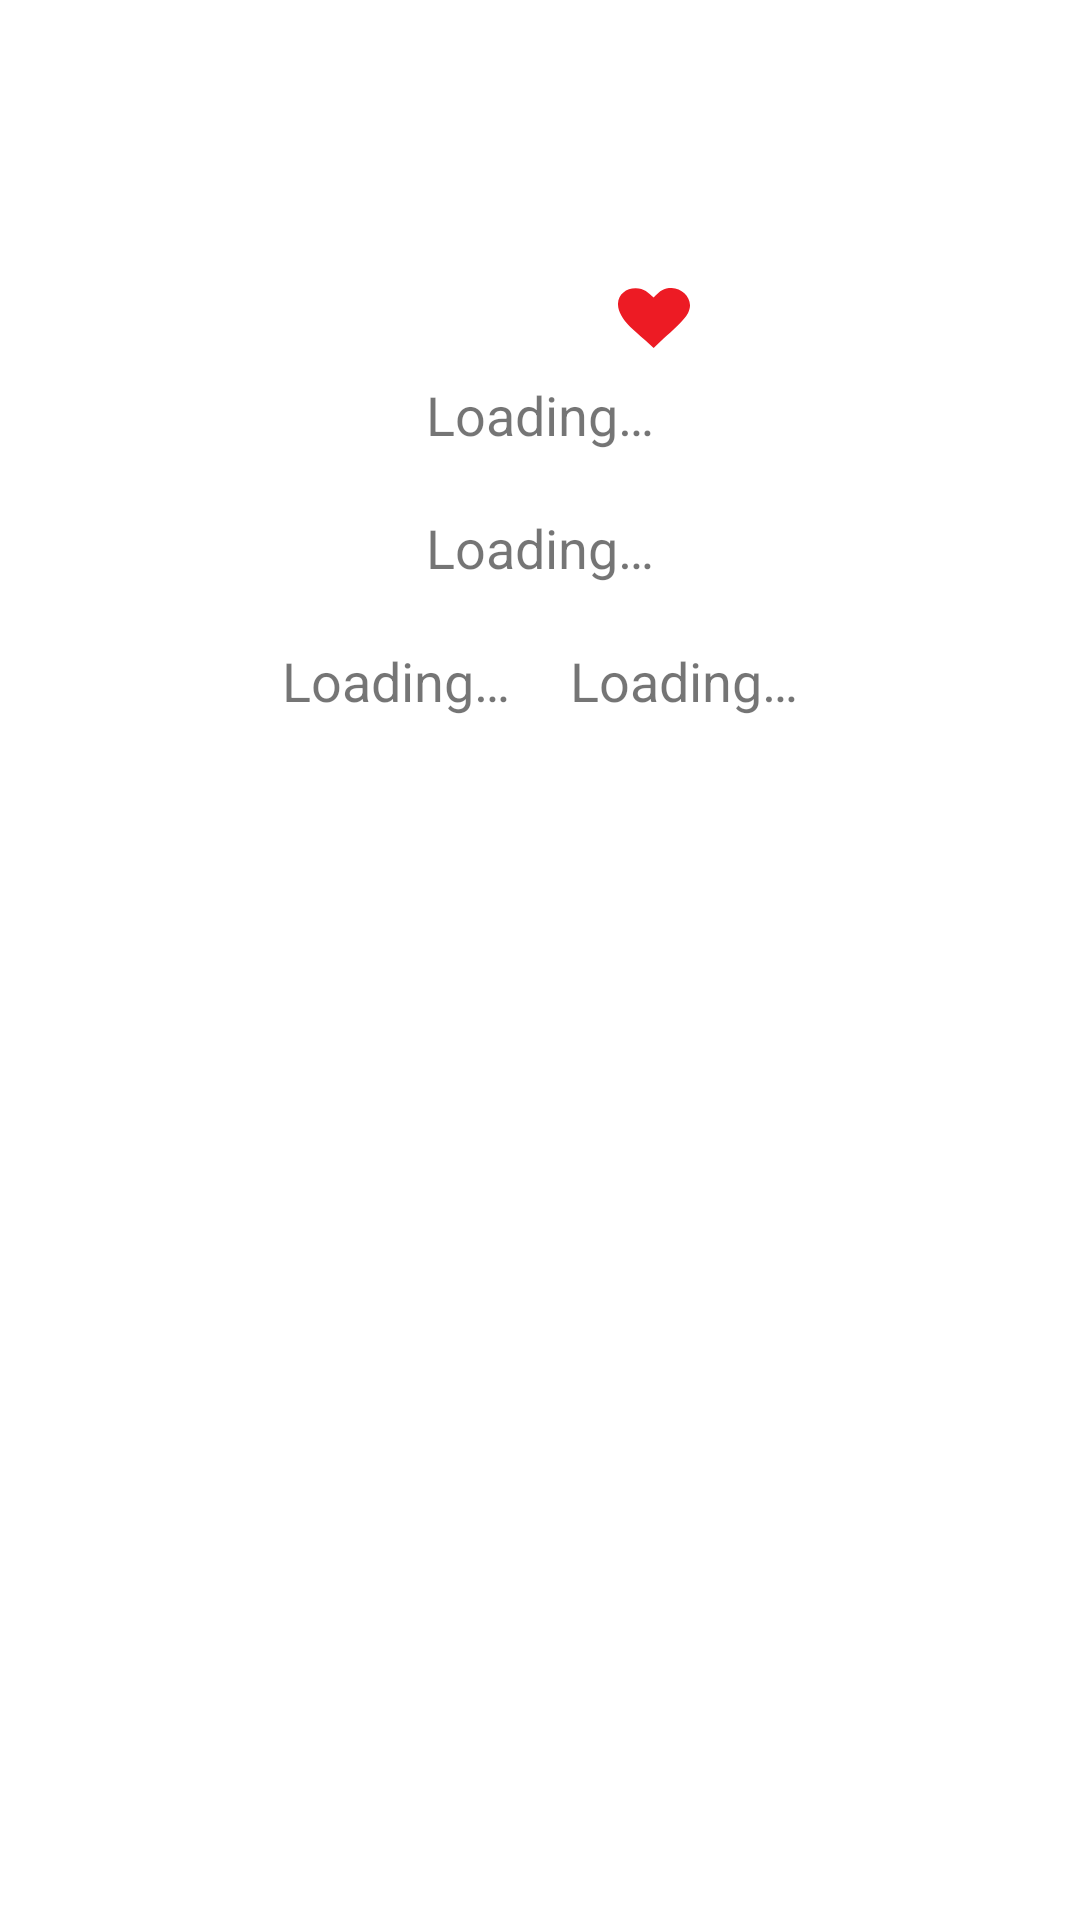

Where to tap for icons on this 1080×1920 app screen, as (x,y):
Save: (654,318)
